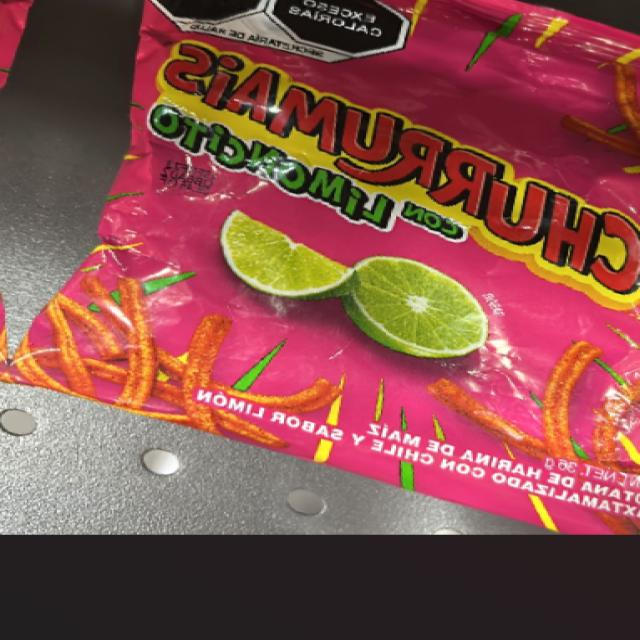churrumais: (120, 17, 640, 475)
